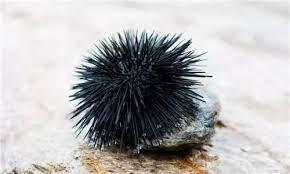urchin: (63, 21, 207, 154)
